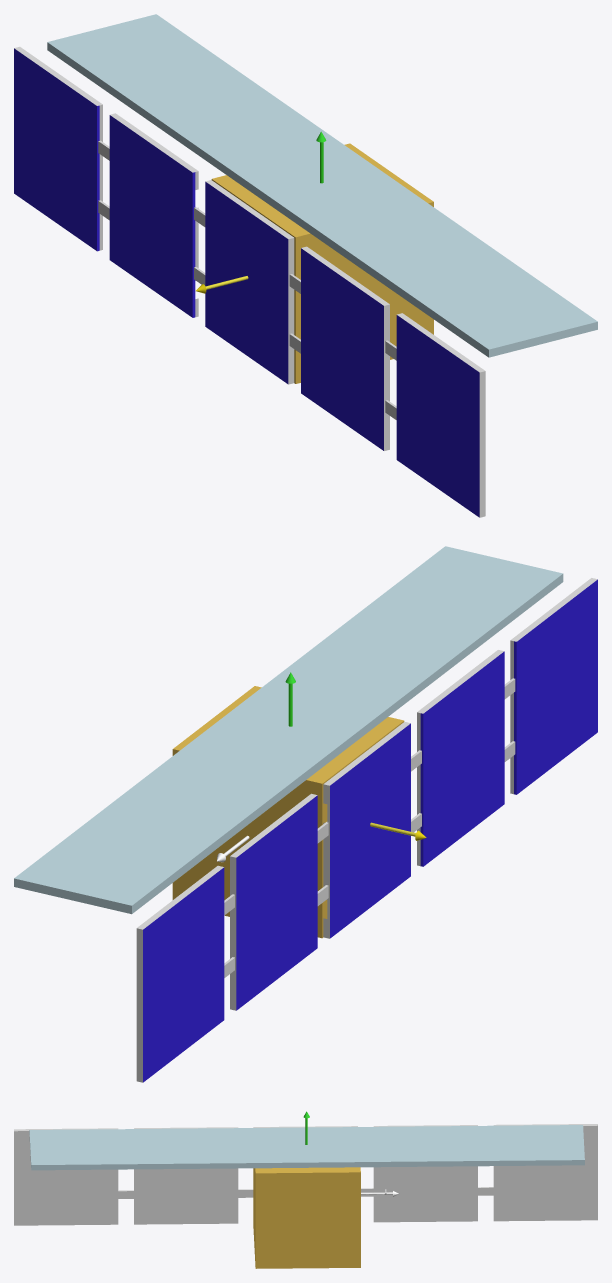
The picture shows the model from 3 angles, top to bottom: view 1: azimuth 30°, elevation 25°; view 2: azimuth 150°, elevation 25°; view 3: azimuth 270°, elevation 25°; orthographic projection. The views are drawn at different scales.
Parts seen in each view (by area): view 1: SOLP, RAD, Plane, Cube, SOLP_connection; view 2: SOLP, RAD, Plane, Cube, SOLP_connection; view 3: Plane, RAD, Cube, SOLP_connection.
Boxes of the visible parts, left/top/right/bottom form: SOLP: left=14, top=48, right=479, bottom=517; RAD: left=47, top=14, right=597, bottom=357; Plane: left=14, top=46, right=485, bottom=517; Cube: left=211, top=143, right=433, bottom=383; SOLP_connection: left=98, top=140, right=396, bottom=419; SOLP: left=143, top=579, right=597, bottom=1082; RAD: left=14, top=546, right=563, bottom=914; Plane: left=136, top=578, right=597, bottom=1082; Cube: left=172, top=686, right=404, bottom=938; SOLP_connection: left=224, top=678, right=515, bottom=977; Plane: left=14, top=1124, right=597, bottom=1225; RAD: left=29, top=1125, right=584, bottom=1170; Cube: left=253, top=1167, right=360, bottom=1268; SOLP_connection: left=118, top=1187, right=493, bottom=1198.
Bounding box in the file's own units: 2.73 × 2.68 × 10.55.
